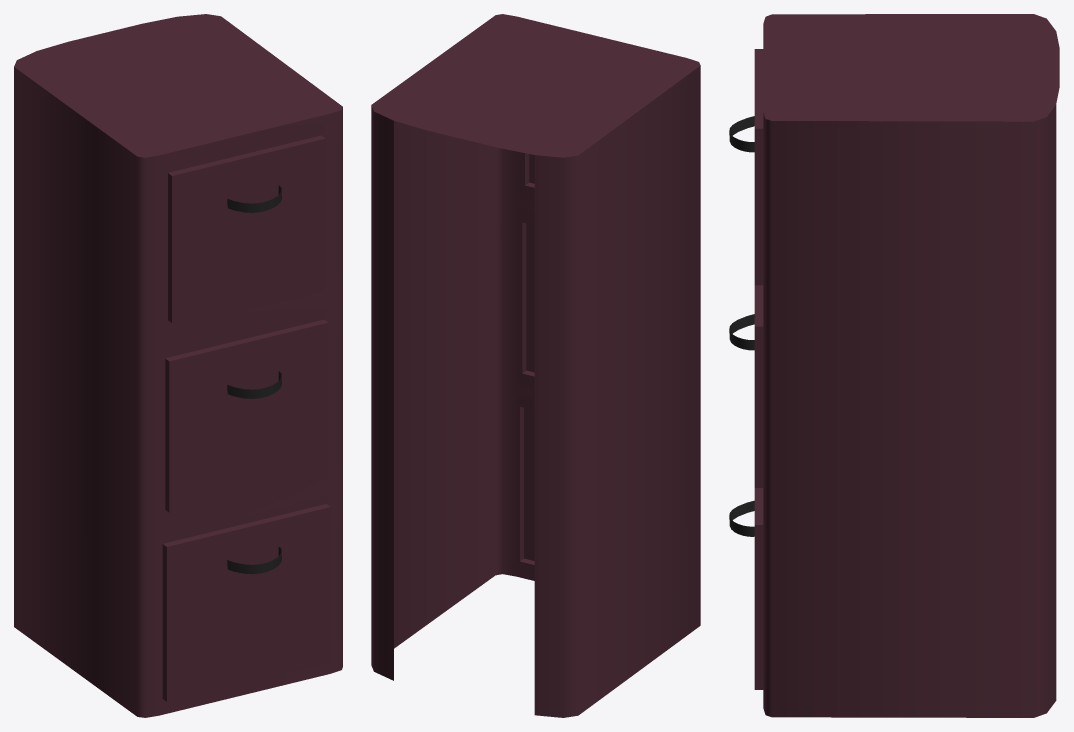
Rendered from Mesa lado femenino_02.glb.
The picture shows the model from 3 angles, left to right: view 1: azimuth 30°, elevation 25°; view 2: azimuth 150°, elevation 25°; view 3: azimuth 270°, elevation 25°; orthographic projection. The views are drawn at different scales.
Parts seen in each view (by area): view 1: escritorio; view 2: escritorio; view 3: escritorio.
Part boxes in pixels (x1,y1,x2,y2): escritorio: (14,14,342,717); escritorio: (371,14,700,717); escritorio: (729,14,1059,717).
Bounding box in the file's own units: 0.7736 × 2 × 1.
